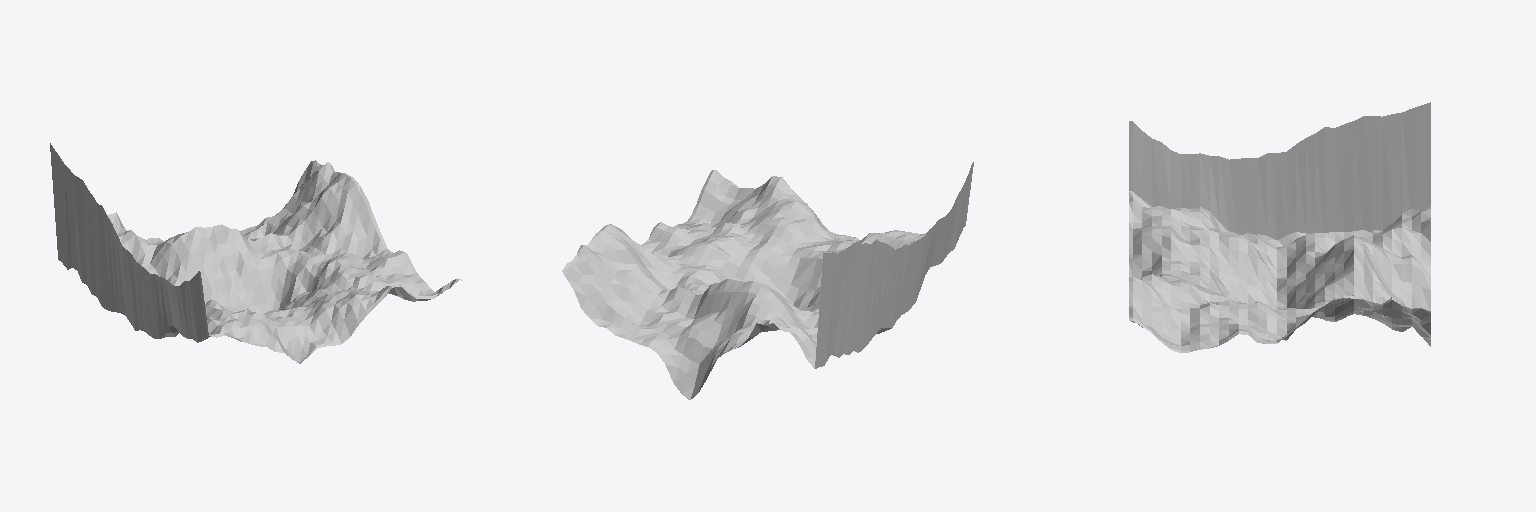
Rendered from terrain_4_4.obj.
3 views of the same model, side by side, from view 1: azimuth 30°, elevation 25°; view 2: azimuth 150°, elevation 25°; view 3: azimuth 270°, elevation 25° (orthographic).
Visible parts, largest first — view 1: terrain_4_4_Plane.004; view 2: terrain_4_4_Plane.004; view 3: terrain_4_4_Plane.004.
Boxes of the visible parts, x1,y1,x2,y2 form: terrain_4_4_Plane.004: [50, 143, 461, 363]; terrain_4_4_Plane.004: [562, 162, 973, 399]; terrain_4_4_Plane.004: [1129, 102, 1430, 352].
Size of the model in its own units: 32 by 21.11 by 32.